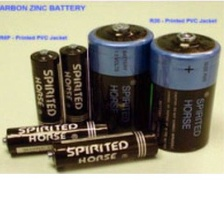battery: (142, 30, 222, 156), (84, 20, 155, 139), (45, 126, 161, 174), (1, 119, 115, 160), (27, 47, 66, 130), (58, 40, 92, 133)
